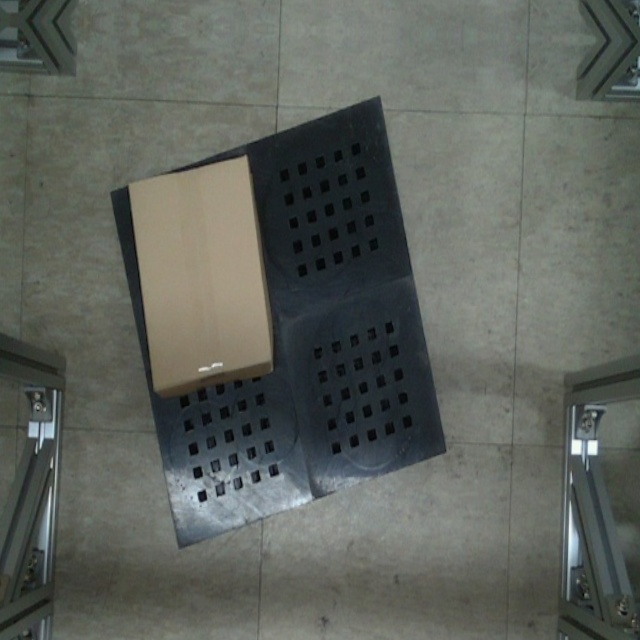box: (120, 147, 279, 401)
pallet: (87, 80, 468, 564)
